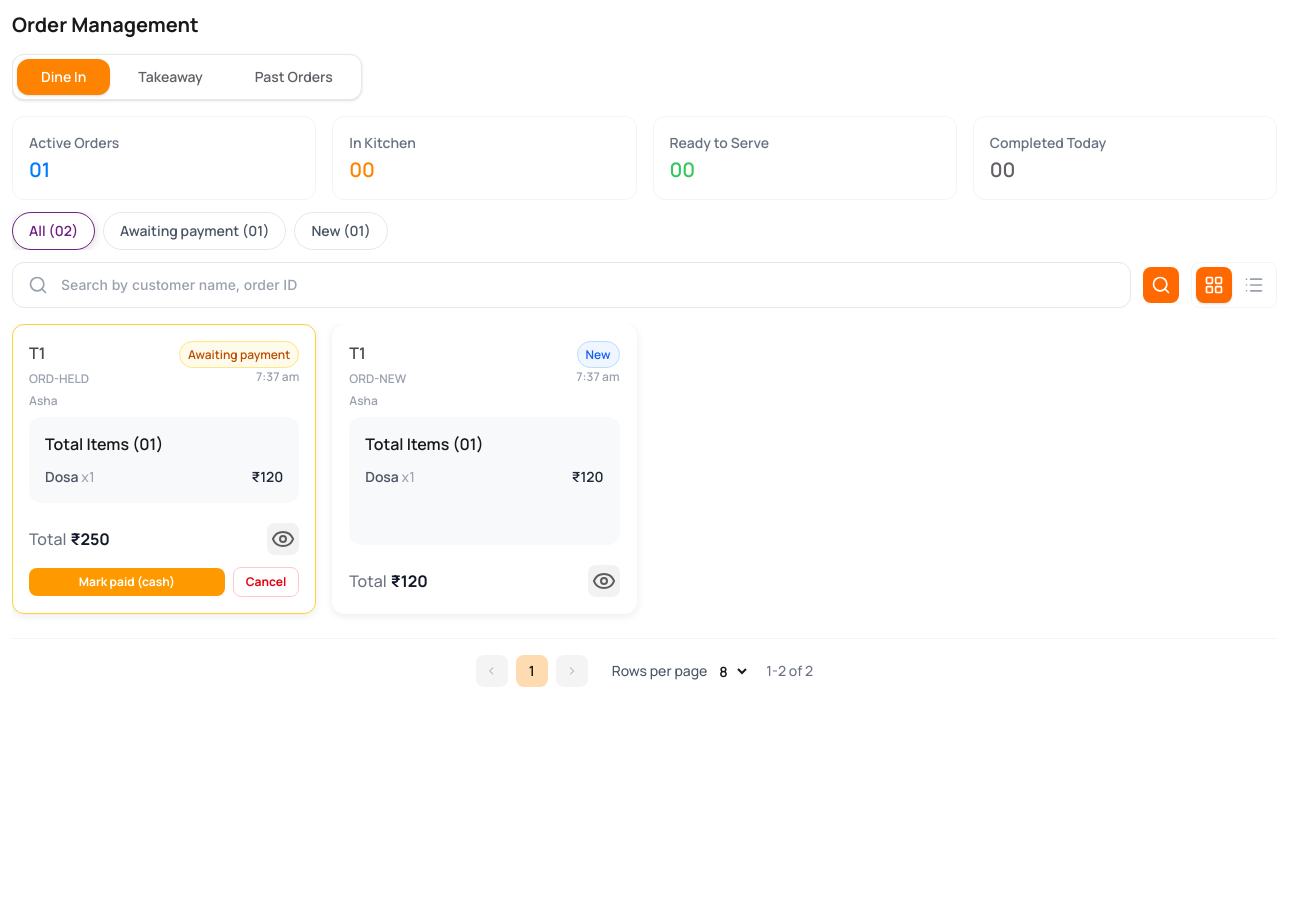
Test: OrdersDashboard — awaiting-payment orders › dine-in: the pill filters the list to held orders
This screenshot has width=1292, height=912.
Expected: the text "ORD-NEW" is shown, [349,371,406,387]
What coordinates should you click on to do the following:
click the button "Awaiting payment (01)"
I would click on:
 (195, 231)
Its box is [103,212,286,250].
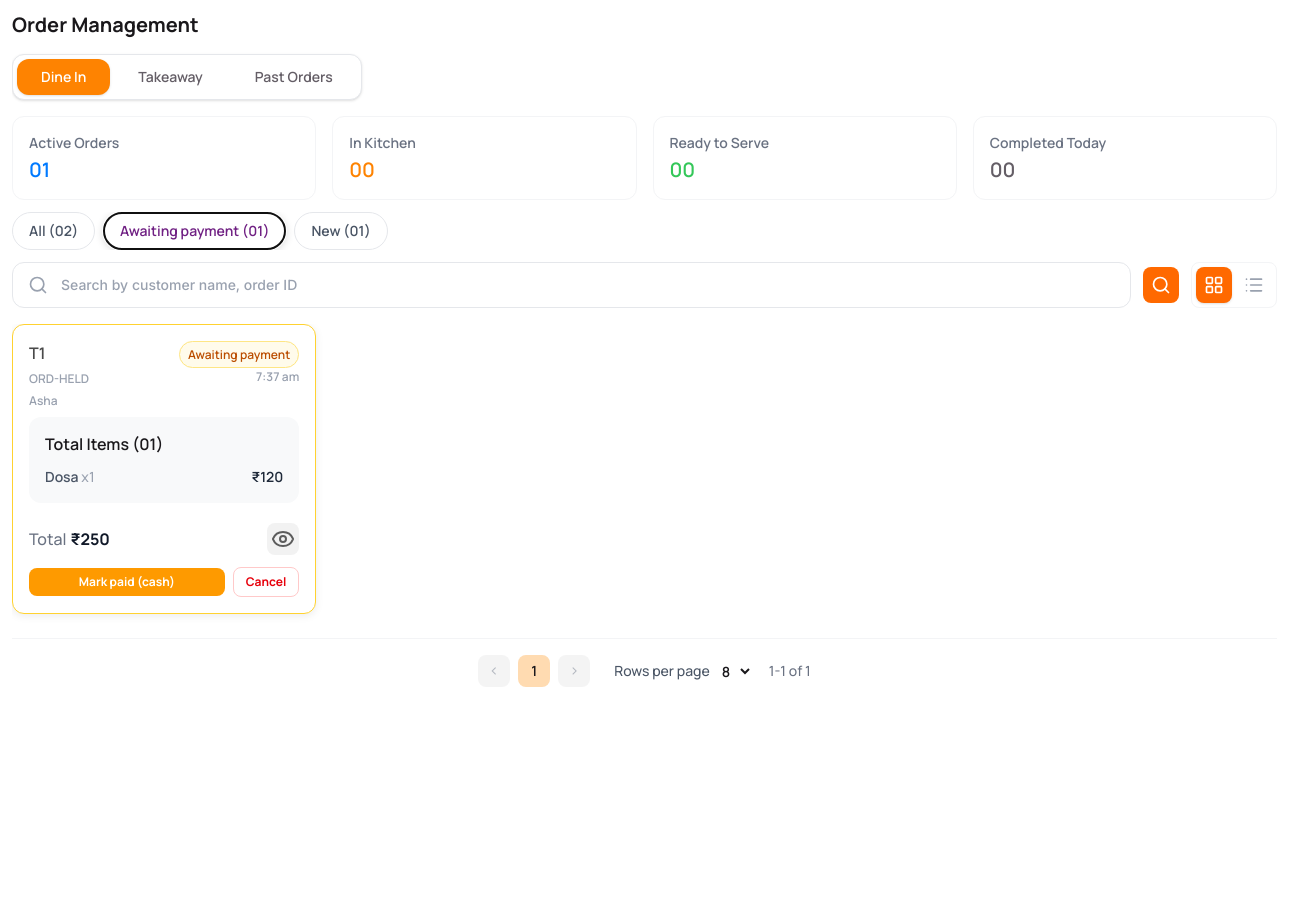
Expected: the text "ORD-HELD" is shown, [29,371,89,387]
Now the text "ORD-NEW" is gone
